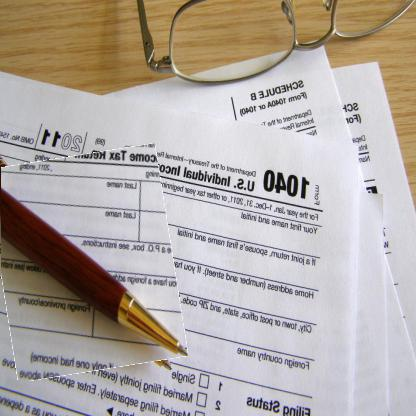Pen: (1, 148, 181, 377)
